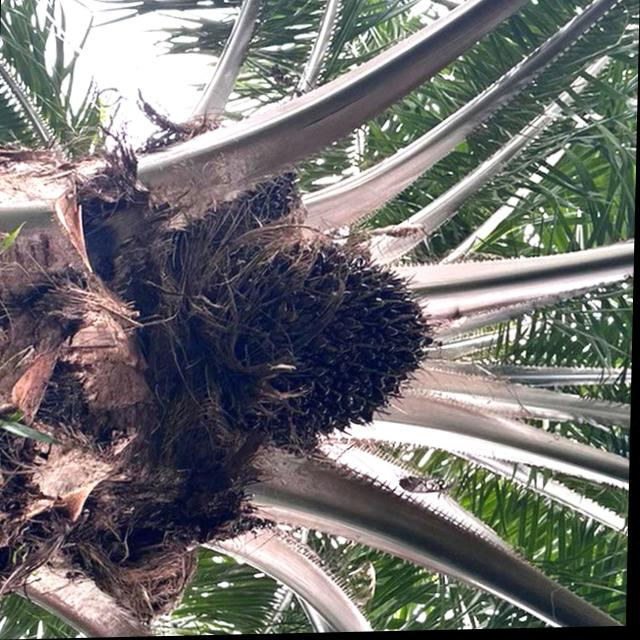ripe: (192, 239, 443, 449), (237, 172, 307, 221)
